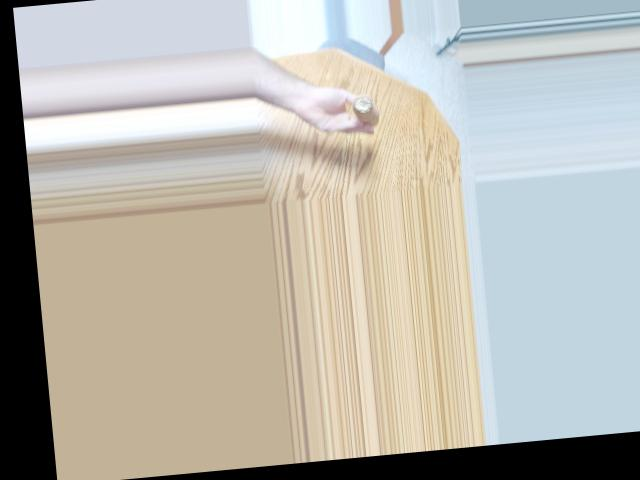sweet_potato: (343, 88, 384, 130)
